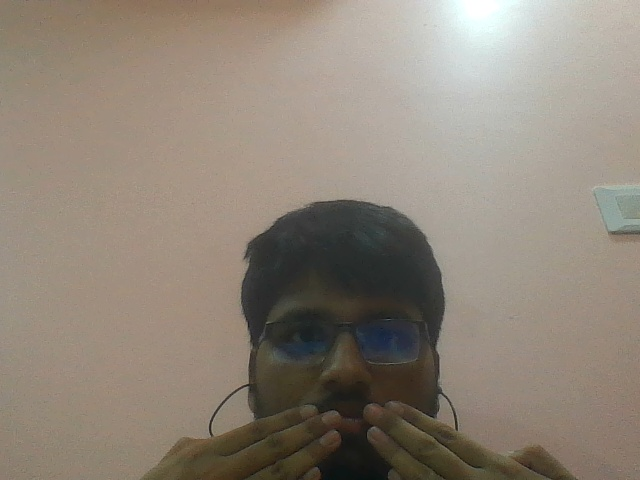thankyou: (121, 401, 595, 480)
